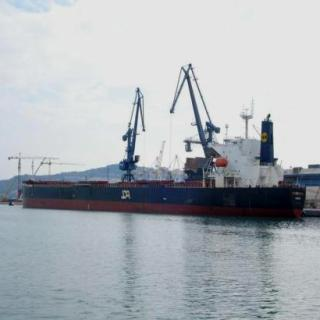Bulk Carrier: (21, 65, 320, 215)
